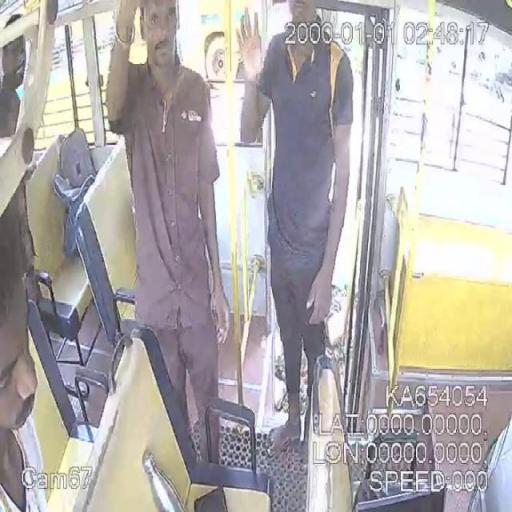persona: (105, 0, 231, 451), (234, 0, 355, 456)
